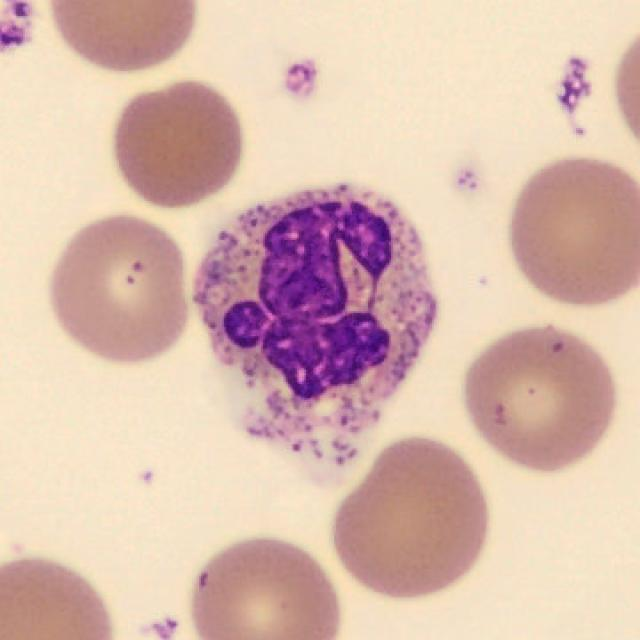Neutrofilo segmentado: (192, 183, 437, 469)
